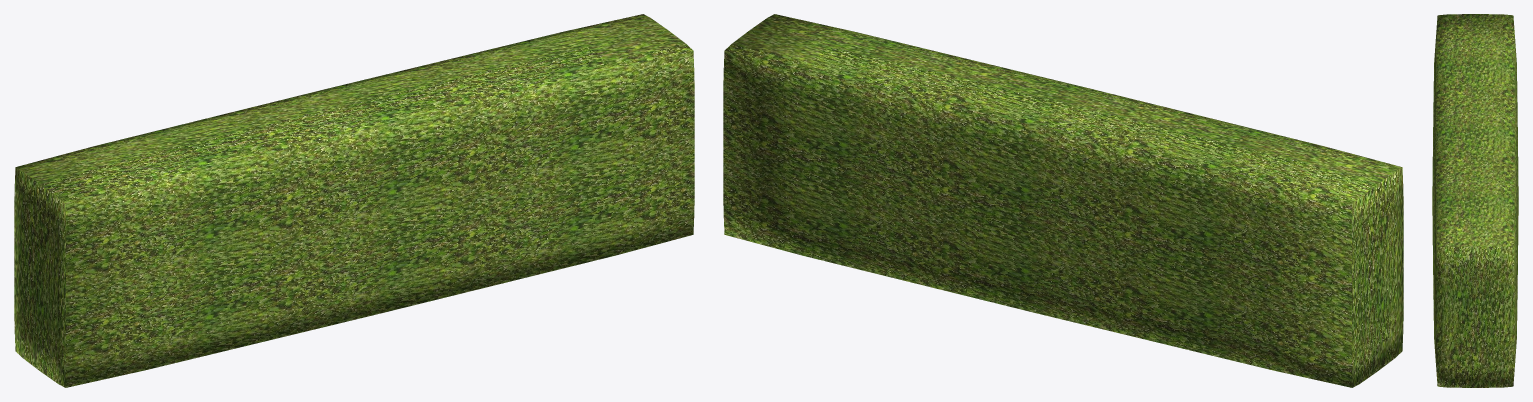
The model's file is hedgecool.glb.
The picture shows the model from 3 angles, left to right: view 1: azimuth 30°, elevation 25°; view 2: azimuth 150°, elevation 25°; view 3: azimuth 270°, elevation 25°; orthographic projection. The views are drawn at different scales.
Visible parts, largest first — view 1: little_hedge_out_Cube.003; view 2: little_hedge_out_Cube.003; view 3: little_hedge_out_Cube.003.
Boxes of the visible parts, x1,y1,x2,y2 form: little_hedge_out_Cube.003: (14,14,694,387); little_hedge_out_Cube.003: (723,14,1403,387); little_hedge_out_Cube.003: (1432,14,1518,387).
Size of the model in its own units: 4.65 by 1.38 by 0.7273.
Materials: 1 (1 with a texture image).
